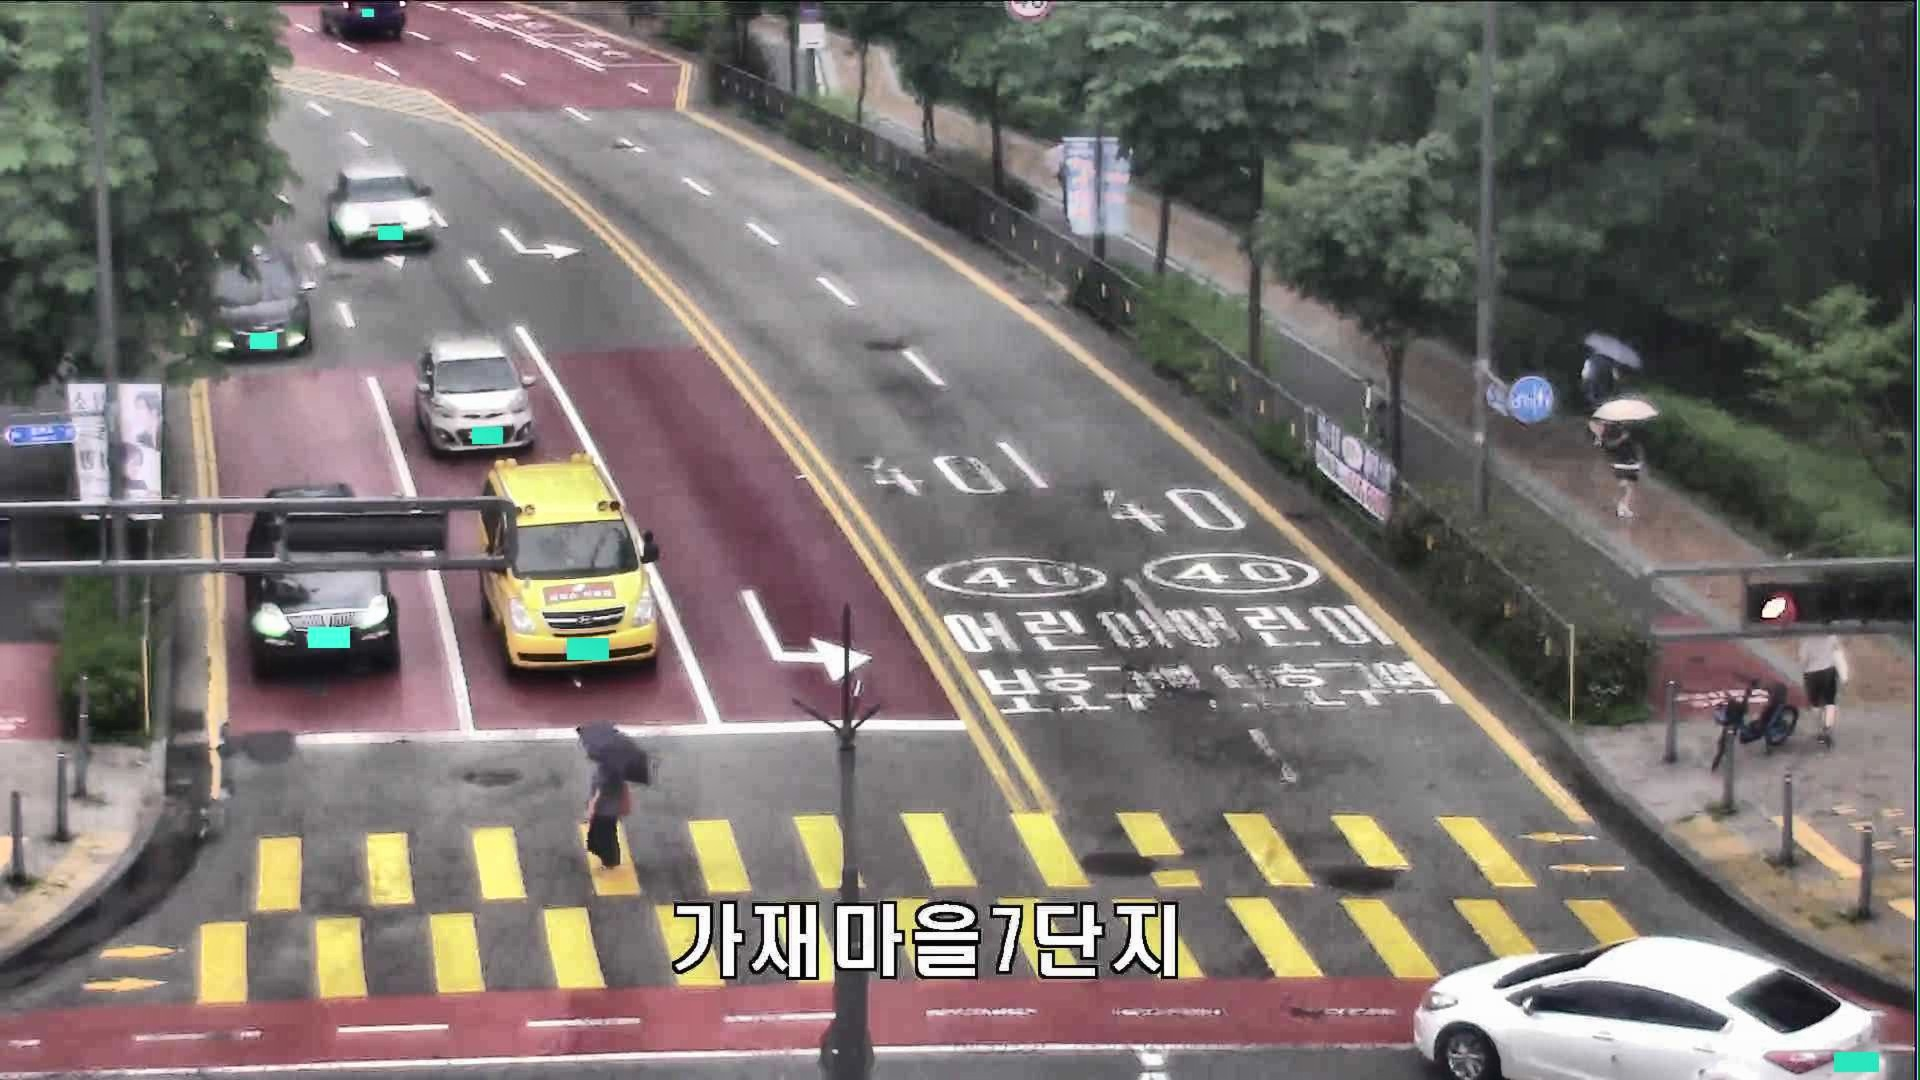sidewalk: (1800, 632, 1847, 742)
um_crosswalk: (571, 728, 651, 876)
um_sidewalk: (1594, 400, 1662, 520), (1582, 332, 1640, 446)
